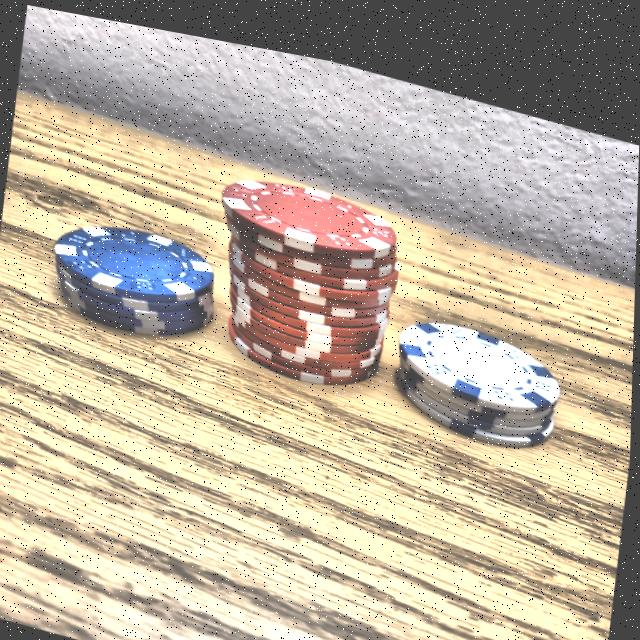Chip: (195, 126, 416, 407), (381, 274, 577, 451), (43, 187, 229, 357)
